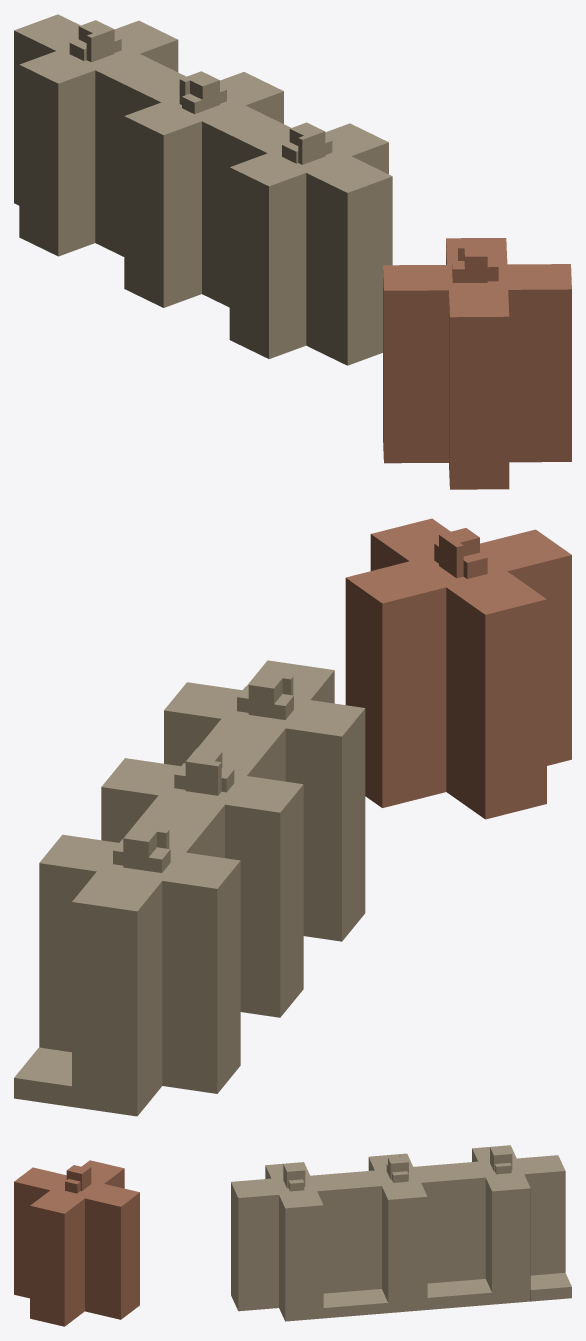
Rendered from tile-10_-1.glb.
The picture shows the model from 3 angles, top to bottom: view 1: azimuth 30°, elevation 25°; view 2: azimuth 150°, elevation 25°; view 3: azimuth 270°, elevation 25°; orthographic projection. The views are drawn at different scales.
Visible parts, largest first — view 1: wall, roof; view 2: wall, roof; view 3: wall, roof.
Part boxes in pixels (x1=…): wall: x1=14, y1=26, x2=571, y2=489; roof: x1=14, y1=14, x2=571, y2=317; wall: x1=14, y1=534, x2=571, y2=1116; roof: x1=14, y1=518, x2=571, y2=1086; wall: x1=14, y1=1147, x2=571, y2=1326; roof: x1=14, y1=1145, x2=571, y2=1307.
Size of the model in its own units: 48.12 by 43.39 by 168.
